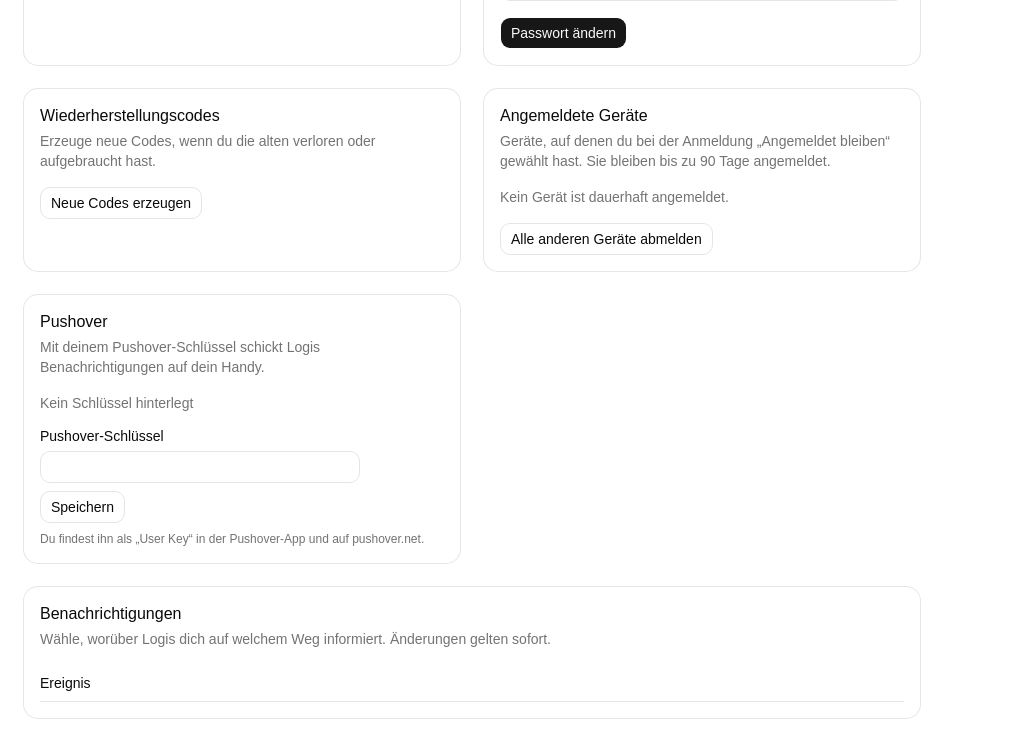
Test: Own Pushover key › shows the message for a key Pushover does not know
The image size is (1024, 732).
(page scrolled)
Step 1. Type "unknownkey00000000000000000000" into the field labelled "Pushover-Schlüssel" → (200, 467), box [40, 451, 360, 483]
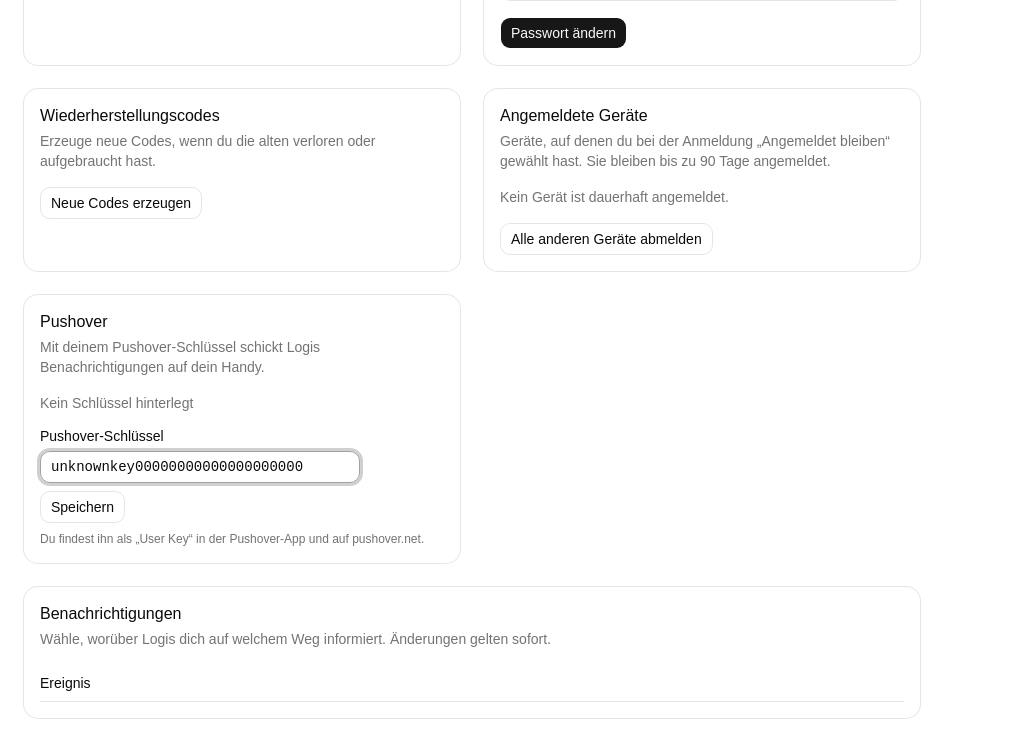
Step 2. Click the button "Speichern" → (82, 507), box [40, 491, 125, 523]
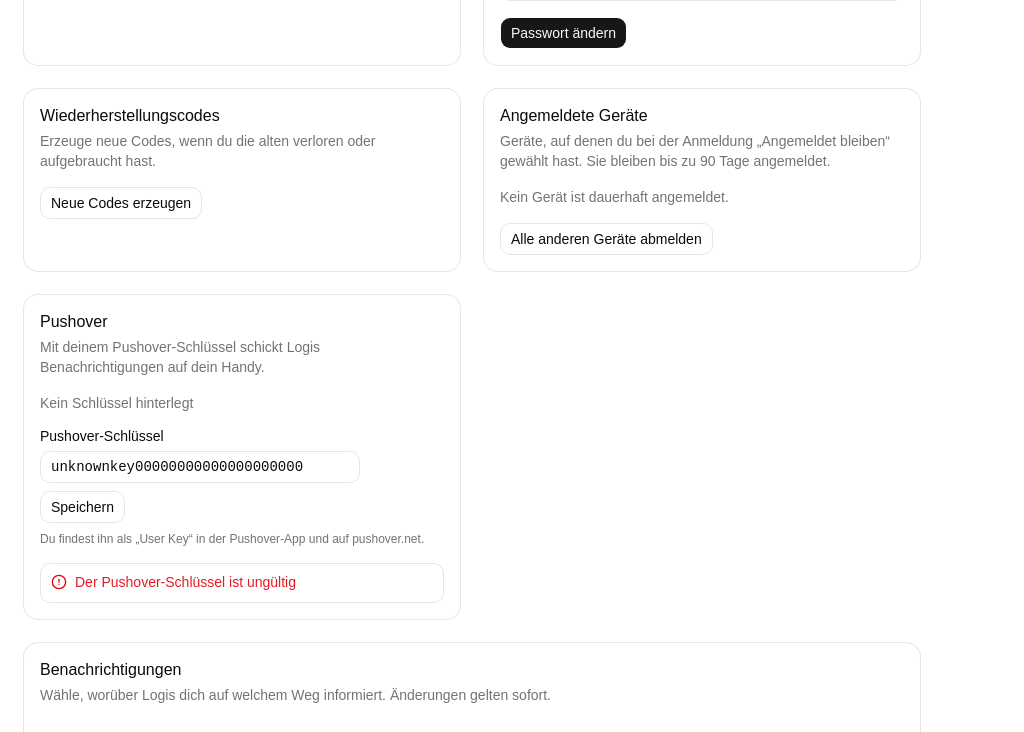
expect the text "Der Pushover-Schlüssel ist ungültig" is shown: met, box [75, 574, 296, 590]
